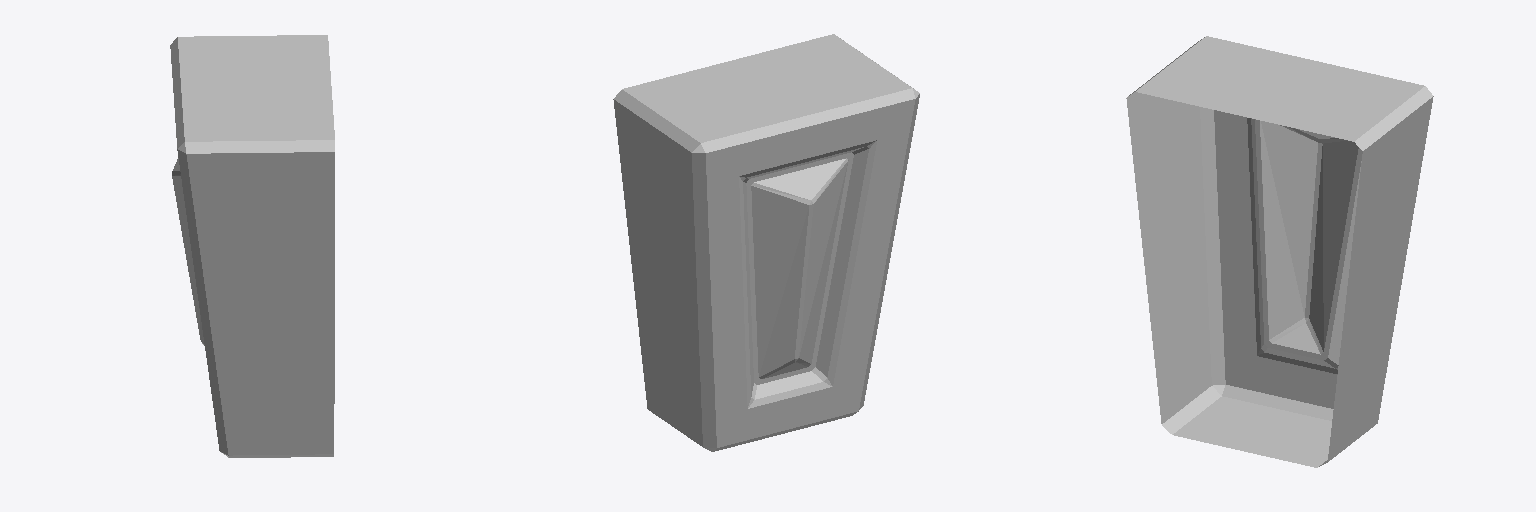
3 renders of one model, left to right at view 1: azimuth 30°, elevation 25°; view 2: azimuth 150°, elevation 25°; view 3: azimuth 270°, elevation 25°, orthographic.
Parts seen in each view (by area): view 1: Bistro_Research_Exterior_Paris_Building_01_paris_buildi_5a97c0d; view 2: Bistro_Research_Exterior_Paris_Building_01_paris_buildi_5a97c0d; view 3: Bistro_Research_Exterior_Paris_Building_01_paris_buildi_5a97c0d.
Boxes of the visible parts, box(x1,y1,x2,y2) form: Bistro_Research_Exterior_Paris_Building_01_paris_buildi_5a97c0d: box(170, 35, 334, 457); Bistro_Research_Exterior_Paris_Building_01_paris_buildi_5a97c0d: box(613, 34, 919, 451); Bistro_Research_Exterior_Paris_Building_01_paris_buildi_5a97c0d: box(1126, 36, 1433, 467).
Bounding box in the file's own units: 0.4459 × 0.6301 × 0.5241.